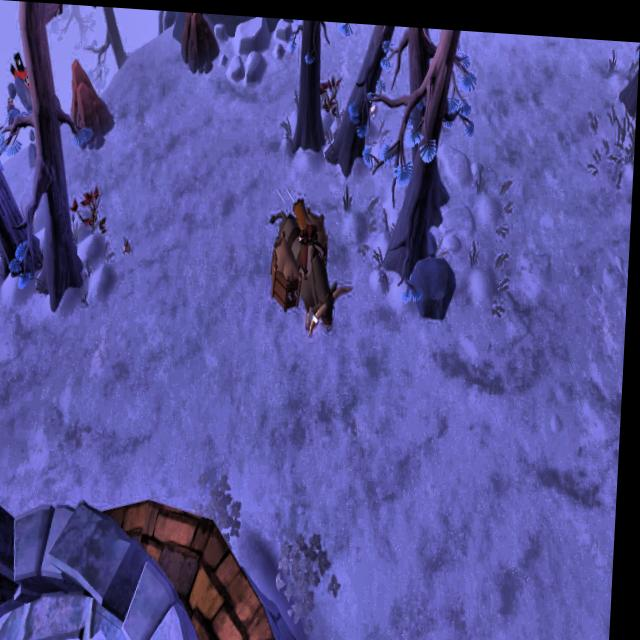rock_t5: (69, 54, 118, 143), (180, 10, 221, 72)
